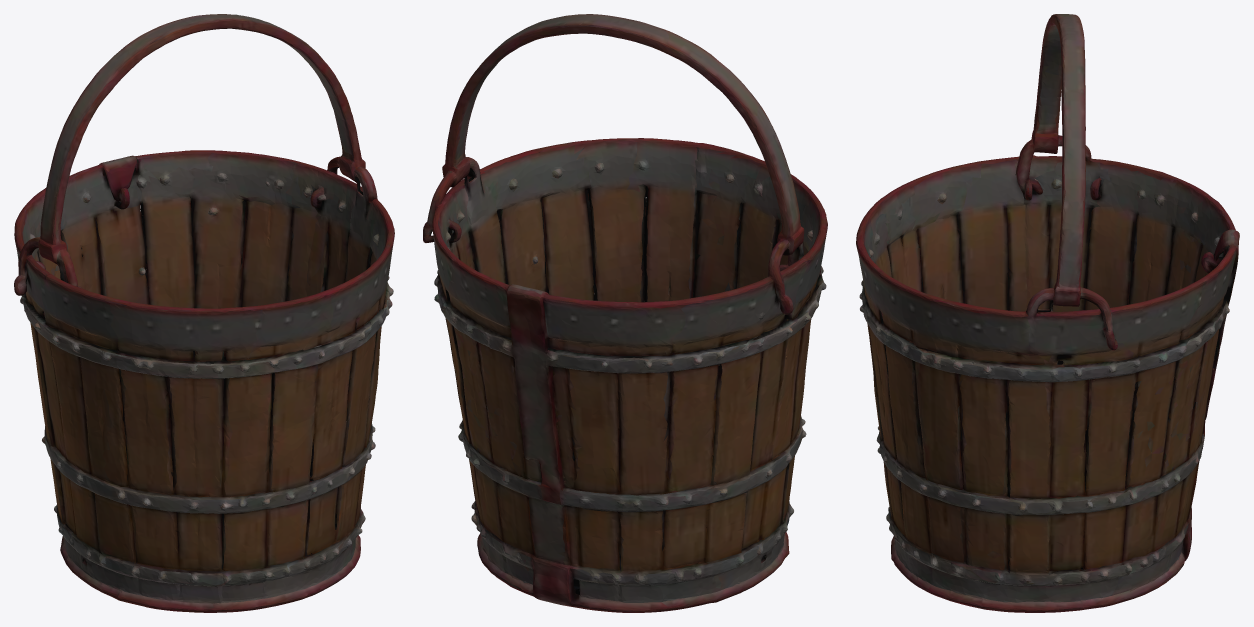
File: prop_bucket_metal_01.glb
3 views of the same model, side by side, from view 1: azimuth 30°, elevation 25°; view 2: azimuth 150°, elevation 25°; view 3: azimuth 270°, elevation 25° (orthographic). The views are drawn at different scales.
Parts seen in each view (by area): view 1: geometry_0; view 2: geometry_0; view 3: geometry_0.
Boxes of the visible parts, x1,y1,x2,y2 form: geometry_0: [14, 14, 394, 612]; geometry_0: [423, 14, 827, 612]; geometry_0: [856, 14, 1239, 612].
Bounding box in the file's own units: 0.6819 × 1 × 0.6693.
Materials: 1 (1 with a texture image).
